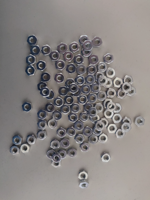nut: (27, 35, 38, 46), (55, 73, 66, 84), (79, 35, 90, 46), (92, 37, 103, 48), (101, 152, 112, 163), (78, 170, 89, 181), (22, 102, 33, 113), (135, 116, 146, 127), (40, 87, 51, 98), (97, 91, 108, 102), (81, 84, 92, 95), (75, 75, 86, 86), (87, 65, 98, 76), (97, 62, 108, 73), (106, 68, 117, 79), (106, 88, 117, 99), (67, 63, 77, 75), (69, 83, 79, 95), (97, 76, 109, 86), (30, 46, 41, 56), (42, 45, 52, 56), (50, 51, 61, 61), (58, 43, 68, 54), (56, 60, 66, 71), (41, 72, 51, 83), (64, 51, 74, 62), (70, 42, 80, 53), (83, 41, 94, 51), (82, 47, 93, 57), (75, 55, 85, 66), (20, 143, 31, 153), (26, 135, 37, 145), (37, 130, 47, 141), (57, 127, 67, 138), (37, 120, 48, 130), (45, 103, 55, 114), (53, 111, 63, 122), (68, 148, 78, 159), (80, 143, 91, 153), (68, 113, 79, 123), (54, 97, 64, 108), (71, 103, 81, 114), (95, 121, 105, 132), (88, 108, 99, 118), (107, 124, 118, 134), (104, 109, 115, 119), (65, 95, 75, 106), (87, 94, 98, 104), (85, 75, 96, 85), (95, 71, 105, 82), (89, 55, 99, 66), (104, 54, 114, 65), (81, 85, 92, 95), (104, 78, 114, 89), (122, 83, 132, 94), (26, 66, 36, 76), (37, 61, 47, 71), (10, 146, 20, 156), (38, 110, 48, 120), (48, 119, 58, 129), (47, 150, 57, 160), (60, 139, 70, 149), (75, 134, 85, 144), (89, 135, 99, 145), (75, 121, 85, 131), (67, 127, 77, 137), (61, 105, 71, 115), (113, 114, 123, 124), (116, 129, 126, 139), (122, 123, 132, 133), (107, 102, 117, 112), (59, 87, 69, 97), (79, 95, 89, 105), (66, 79, 76, 89), (77, 65, 87, 75), (117, 89, 127, 99), (114, 78, 124, 88), (124, 76, 134, 86), (91, 84, 101, 94), (80, 112, 89, 123), (27, 55, 36, 65), (79, 180, 89, 189), (13, 136, 22, 146), (52, 154, 62, 163), (51, 140, 60, 150), (84, 127, 93, 137), (99, 134, 108, 144), (90, 115, 100, 124), (95, 103, 104, 113), (100, 118, 109, 128), (113, 104, 123, 113), (123, 117, 132, 127), (104, 99, 113, 109), (84, 103, 93, 113), (38, 82, 47, 92), (47, 90, 56, 100), (128, 87, 137, 97), (52, 159, 61, 168), (73, 88, 82, 97), (93, 128, 103, 136), (59, 150, 67, 159)
